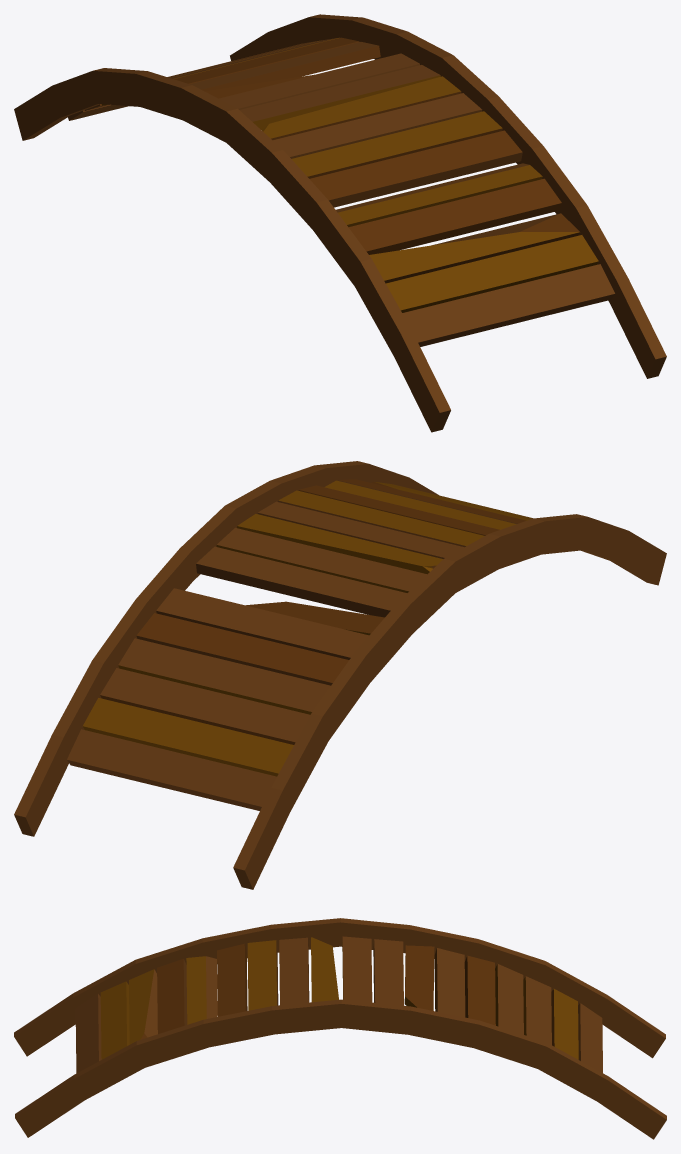
The model's file is camp_bridge.fbx.
3 views of the same model, one above another, from view 1: azimuth 30°, elevation 25°; view 2: azimuth 150°, elevation 25°; view 3: azimuth 270°, elevation 25° (orthographic). The views are drawn at different scales.
Parts seen in each view (by area): view 1: bridge; view 2: bridge; view 3: bridge.
Part boxes in pixels (box(x1,y1,x2,y2)): bridge: box(14, 14, 666, 432); bridge: box(14, 461, 666, 889); bridge: box(14, 918, 666, 1139).
Bounding box in the file's own units: 12970 × 2999 × 4105.
